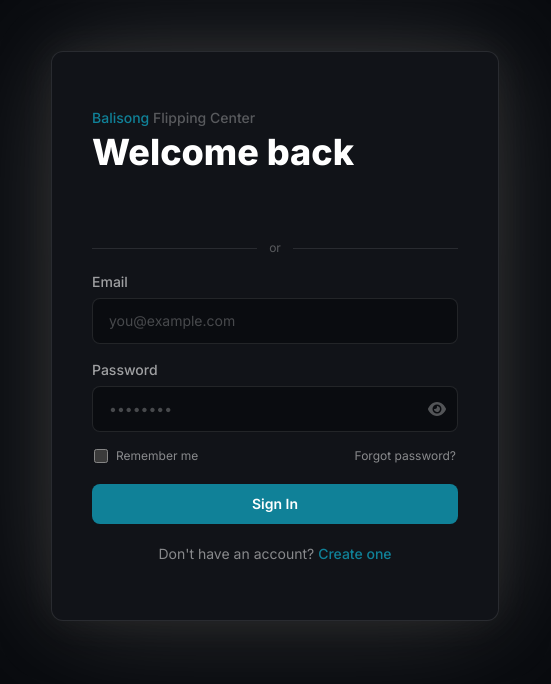
LoginForm › routes an unverified-email error to the email field and shows a verify-email link
In the field with placeholder "you@example.com": (275, 321) [92,298,458,344], type "unverified@example.com"
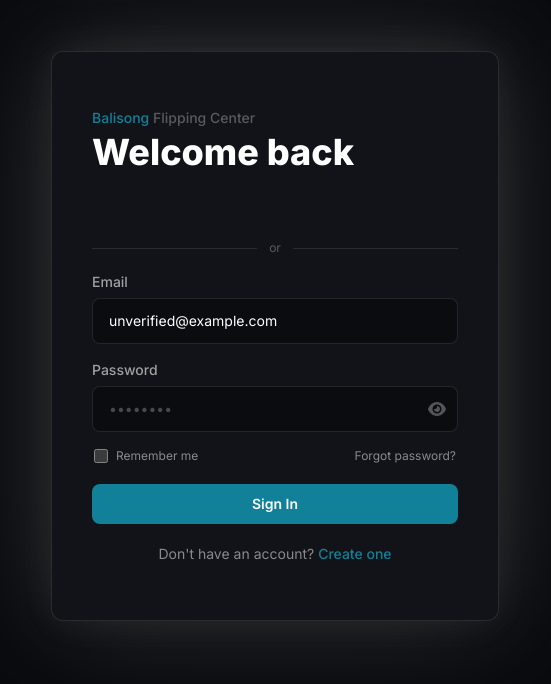
In the password field with placeholder "••••••••": (275, 409) [92,386,458,432], type "password123"
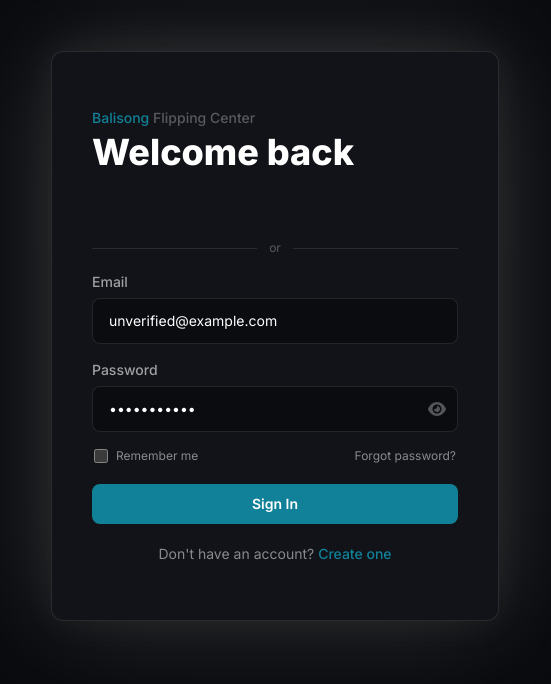
Click the button "Sign In": (275, 504) [92,484,458,524]
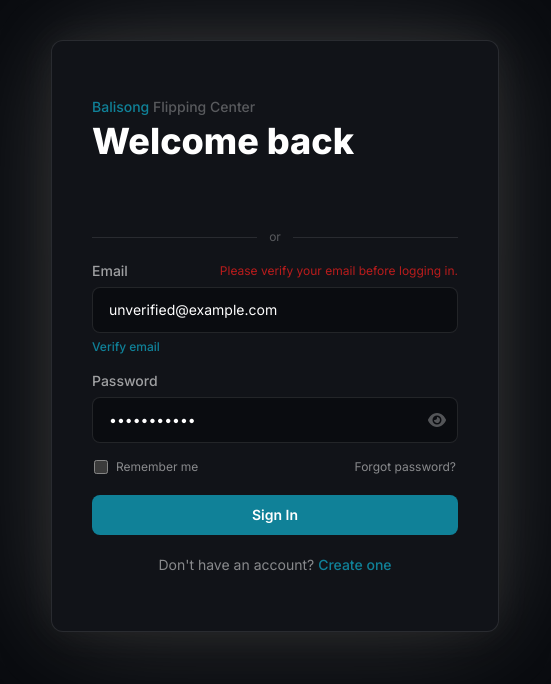
expect the text "Please verify your email before logging in." is shown: met, box [220,263,458,279]
expect the button "Verify email" is shown: met, box [92,339,160,355]
